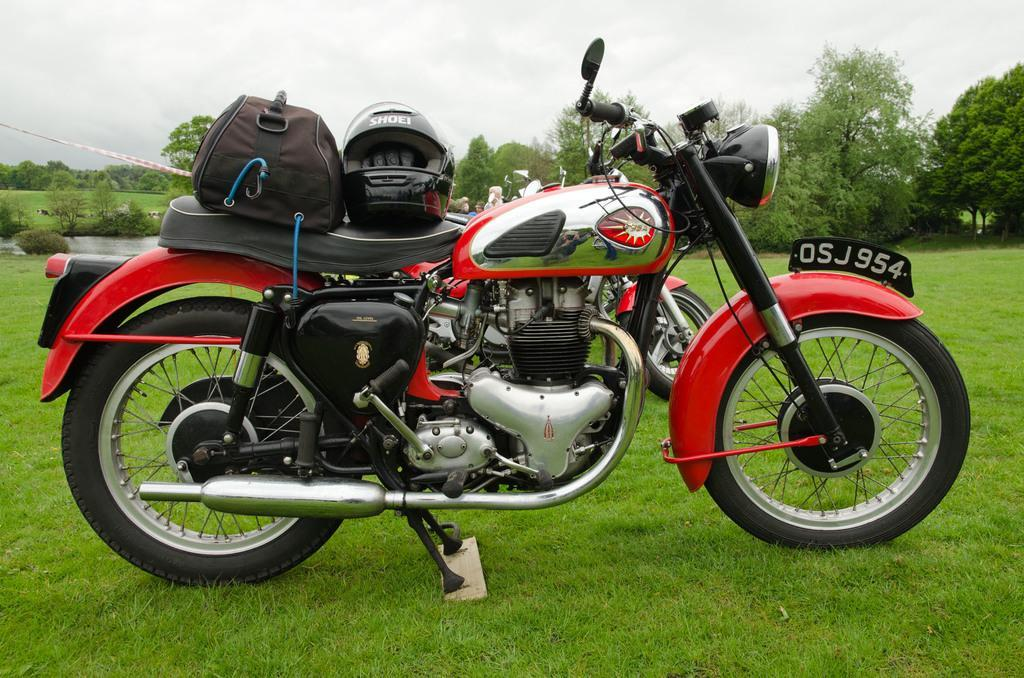helmet: (338, 99, 455, 227)
